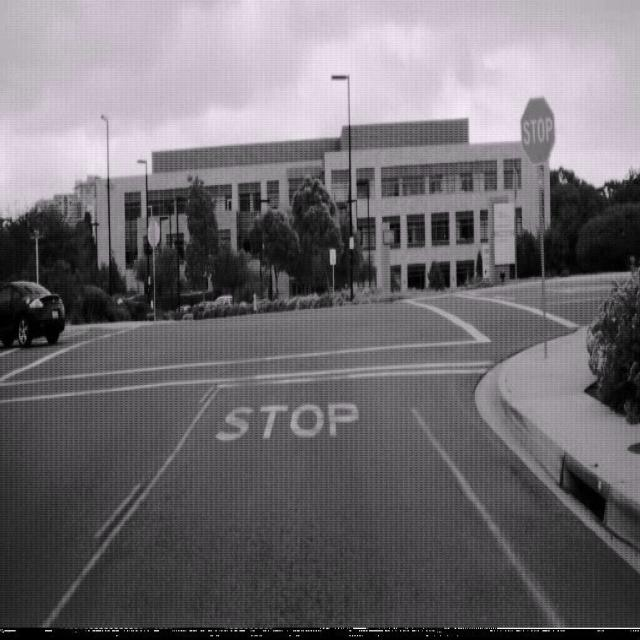stop: (520, 93, 556, 166)
